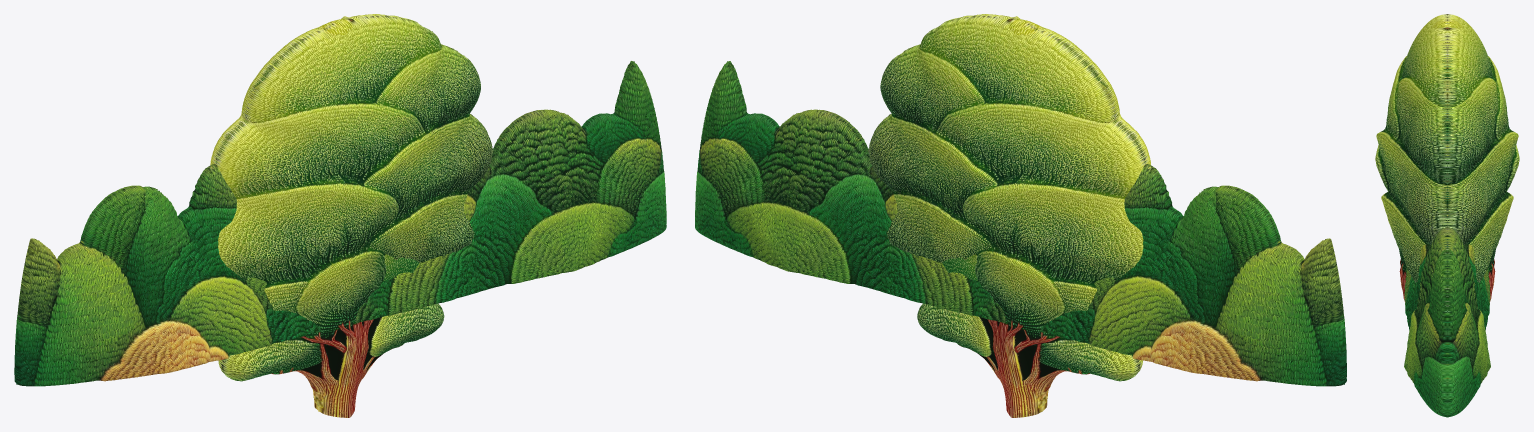
The model's file is s01-layers.glb.
3 renders of one model, left to right at view 1: azimuth 30°, elevation 25°; view 2: azimuth 150°, elevation 25°; view 3: azimuth 270°, elevation 25°, orthographic. The views are drawn at different scales.
Parts seen in each view (by area): view 1: s01_bushes, s01_tree_a, s01_tree_b; view 2: s01_bushes, s01_tree_a, s01_tree_b; view 3: s01_tree_a, s01_bushes, s01_tree_b.
Boxes of the visible parts, bbox=[...] form: s01_bushes: bbox=[14, 61, 666, 386]; s01_tree_a: bbox=[210, 14, 493, 417]; s01_tree_b: bbox=[307, 19, 418, 280]; s01_bushes: bbox=[695, 61, 1346, 386]; s01_tree_a: bbox=[868, 14, 1151, 417]; s01_tree_b: bbox=[942, 19, 1054, 280]; s01_tree_a: bbox=[1375, 14, 1519, 312]; s01_bushes: bbox=[1404, 53, 1490, 417]; s01_tree_b: bbox=[1433, 19, 1462, 317].
Size of the model in its own units: 2.39 by 1.36 by 0.5151.
3 materials, 3 textured.
